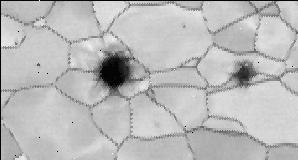good_void: (91, 49, 133, 94), (224, 58, 260, 87), (35, 59, 44, 67), (178, 22, 186, 29)
